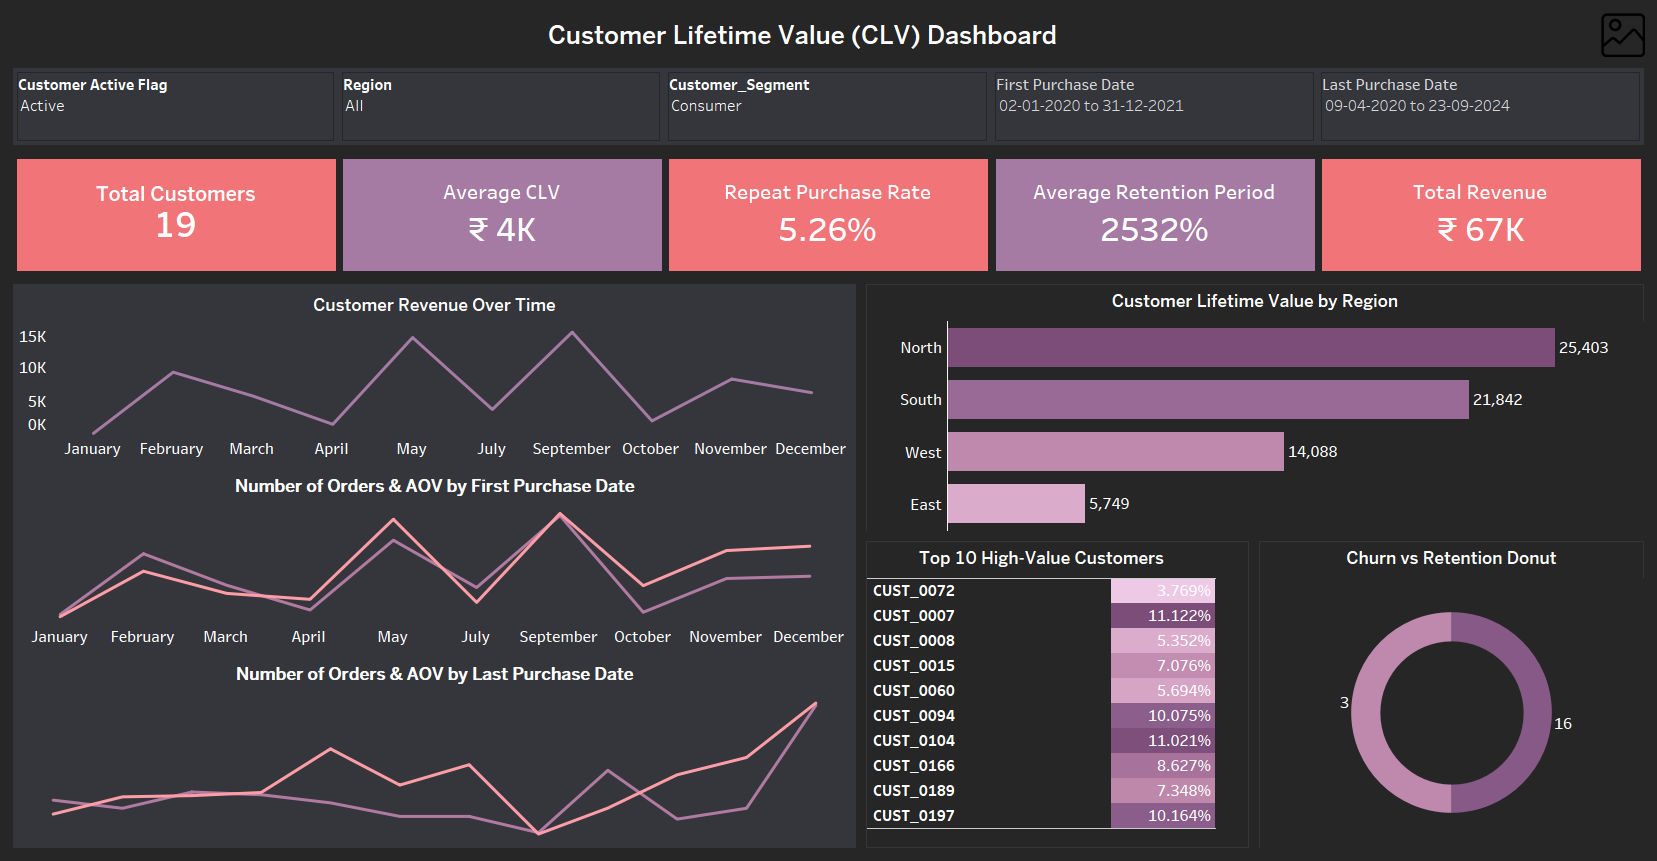

This screenshot's page, from the dashboard's own definition file:
{"tool":"tableau","page":{"name":"Customer Lifetime Value (CLV) Dashboard","canvas":[1000,1000],"units":"permille","ordinal":0},"visuals":[{"type":"text","box":[4.8,9.3,959,63.9]},{"type":"dashboard-object","box":[963.8,9.3,31.4,63.9]},{"type":"filter","title":"Average Order Value by Month","param":"[federated.0aawnvs0g0pawi19enjyo1jl5vpk].[none:Calculation_761671353949274120:nk","box":[7.9,79,196.1,89.4]},{"type":"filter","title":"Average Order Value by Month","param":"[federated.0aawnvs0g0pawi19enjyo1jl5vpk].[none:Region:nk]","box":[204,79,196.7,89.4]},{"type":"filter","title":"Average Order Value by Month","param":"[federated.0aawnvs0g0pawi19enjyo1jl5vpk].[none:Customer_Segment:nk]","box":[400.7,79,197.3,89.4]},{"type":"filter","title":"KPI - Total Customers","param":"[federated.0aawnvs0g0pawi19enjyo1jl5vpk].[none:First_Purchase_Date:qk]","box":[598.1,79,197,89.4]},{"type":"filter","title":"KPI - Total Customers","param":"[federated.0aawnvs0g0pawi19enjyo1jl5vpk].[none:Last_Purchase_Date:qk]","box":[795.1,79,197,89.4]},{"type":"worksheet","title":"KPI - Total Customers","mark":"Text","box":[7.9,180,196.9,138.1]},{"type":"worksheet","title":"KPI - Average CLV","mark":"Text","box":[204.7,180,196.9,138.1]},{"type":"worksheet","title":"KPI - Repeat Purchase Rate","mark":"Text","box":[401.6,180,196.9,138.1]},{"type":"worksheet","title":"KPI - Avg Retention Period","mark":"Text","box":[598.4,180,196.9,138.1]},{"type":"worksheet","title":"KPI - Total Revenue ","mark":"Text","box":[795.3,180,196.9,138.1]},{"type":"worksheet","title":"CLV by Region","mark":"Automatic","rows":["Region"],"cols":["Calculation_761671353929809920"],"box":[519.6,323.9,475.6,298.2]},{"type":"worksheet","title":"Customer Revenue Over Time","mark":"Line","rows":["Calculation_761671353929809920"],"cols":["First_Purchase_Date"],"box":[7.9,329.7,508.7,210.2]},{"type":"worksheet","title":"Average Order Value by Month","mark":"Line","rows":["Number_of_Orders","Average_Order_Value"],"cols":["First_Purchase_Date"],"box":[7.9,539.9,508.7,218.3]},{"type":"worksheet","title":"Top 5 High-Value Customers","mark":"Square","rows":["Customer_ID"],"box":[519.6,622.1,237.2,368.6]},{"type":"worksheet","title":"Churn vs Retention Pie","mark":"Pie","rows":["Calculation_761671353999204365","Calculation_761671353999204365"],"box":[756.8,622.1,238.4,368.6]},{"type":"worksheet","title":"Average Order Value by Month (2)","mark":"Line","rows":["Number_of_Orders","Average_Order_Value"],"cols":["Last_Purchase_Date"],"box":[7.9,758.3,508.7,226.6]}]}

Visuals, with their boxes on the dashboard's canvas, which has no fixed pixel size, in thousandths of its width and height (x1, y1, x2, y2). These are canvas units, not pixel positions in the 1657x861 screenshot, which may show the page scaled, cropped or inside an application window:
text: (left=5, top=9, right=964, bottom=73)
dashboard-object: (left=964, top=9, right=995, bottom=73)
"Average Order Value by Month" filter: (left=8, top=79, right=204, bottom=168)
"Average Order Value by Month" filter: (left=204, top=79, right=401, bottom=168)
"Average Order Value by Month" filter: (left=401, top=79, right=598, bottom=168)
"KPI - Total Customers" filter: (left=598, top=79, right=795, bottom=168)
"KPI - Total Customers" filter: (left=795, top=79, right=992, bottom=168)
"KPI - Total Customers" worksheet (Text marks): (left=8, top=180, right=205, bottom=318)
"KPI - Average CLV" worksheet (Text marks): (left=205, top=180, right=402, bottom=318)
"KPI - Repeat Purchase Rate" worksheet (Text marks): (left=402, top=180, right=598, bottom=318)
"KPI - Avg Retention Period" worksheet (Text marks): (left=598, top=180, right=795, bottom=318)
"KPI - Total Revenue " worksheet (Text marks): (left=795, top=180, right=992, bottom=318)
"CLV by Region" worksheet: (left=520, top=324, right=995, bottom=622)
"Customer Revenue Over Time" worksheet (Line marks): (left=8, top=330, right=517, bottom=540)
"Average Order Value by Month" worksheet (Line marks): (left=8, top=540, right=517, bottom=758)
"Top 5 High-Value Customers" worksheet (Square marks): (left=520, top=622, right=757, bottom=991)
"Churn vs Retention Pie" worksheet (Pie marks): (left=757, top=622, right=995, bottom=991)
"Average Order Value by Month (2)" worksheet (Line marks): (left=8, top=758, right=517, bottom=985)
